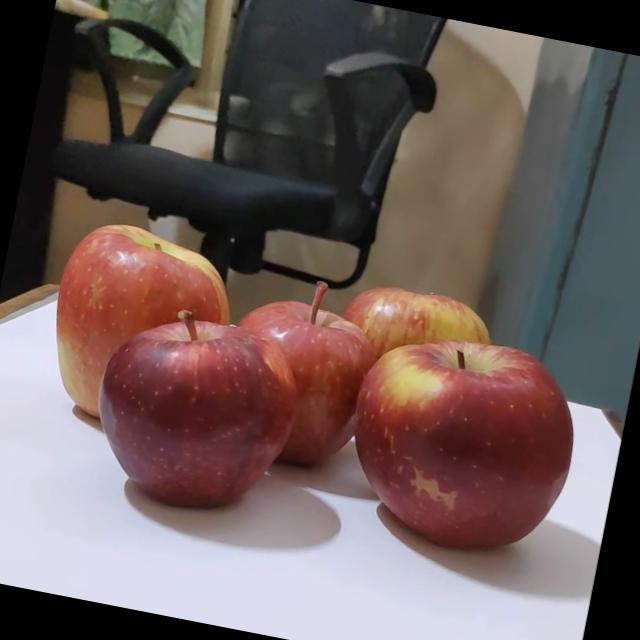apple: (332, 318, 598, 569), (83, 304, 310, 522), (22, 214, 225, 442), (208, 270, 392, 482), (311, 263, 503, 418)
